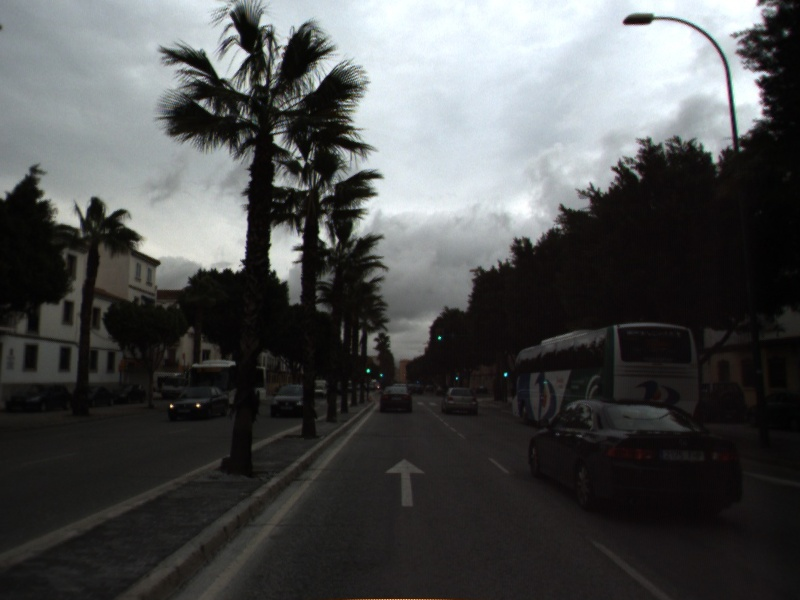STRAIGHT: (383, 456, 428, 509)
